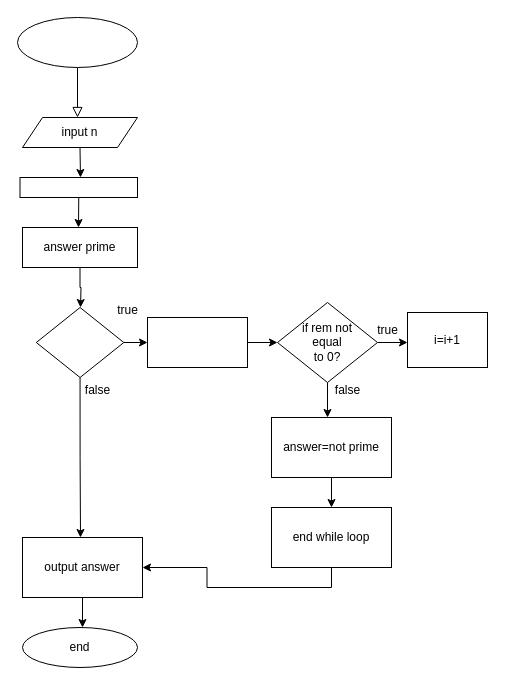
Image size: 505x685. Some labels were removed from this diagram. The centre of each missing label's shape, as x and y in pixels:
"i=2" belongs at point 78,187.
"if i<=n//2?" belongs at point 79,342.
"rem=n%i" belongs at point 197,342.
"START" belongs at point 77,42.
